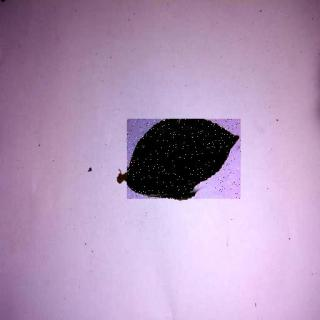Anthracnose: (128, 120, 242, 200)
